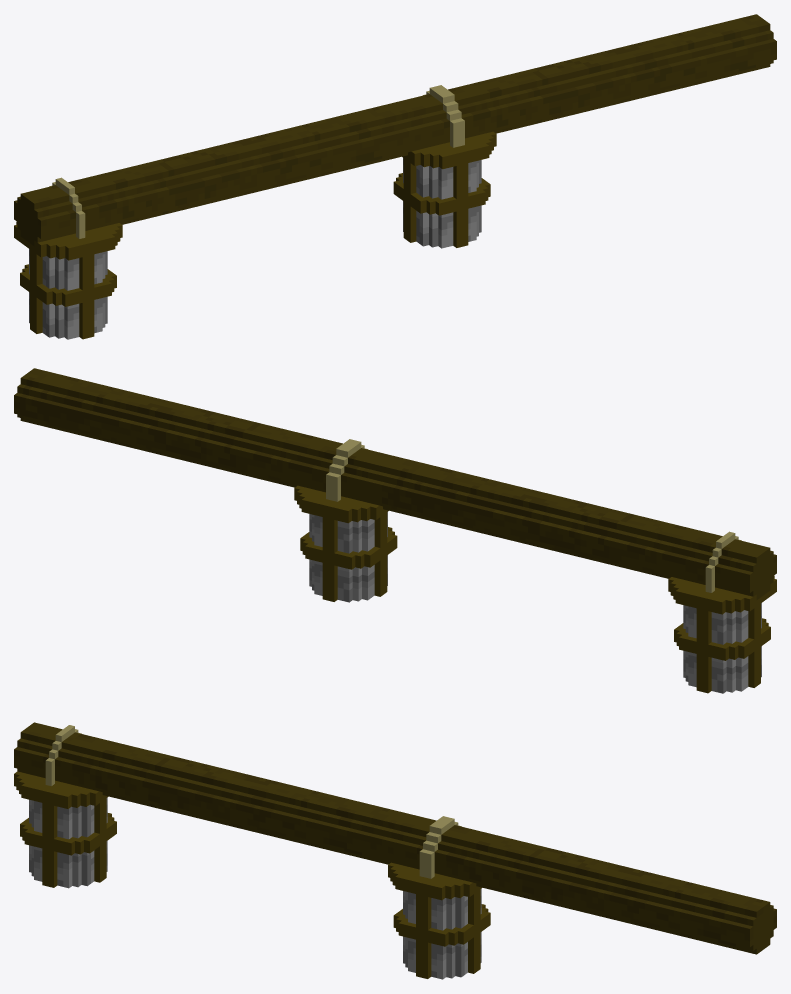
The model's file is ArchFence1_2.obj.
The picture shows the model from 3 angles, top to bottom: view 1: azimuth 30°, elevation 25°; view 2: azimuth 150°, elevation 25°; view 3: azimuth 330°, elevation 25°; orthographic projection.
Size of the model in its own units: 12.6 by 2.3 by 1.4.
1 material, 1 textured.
